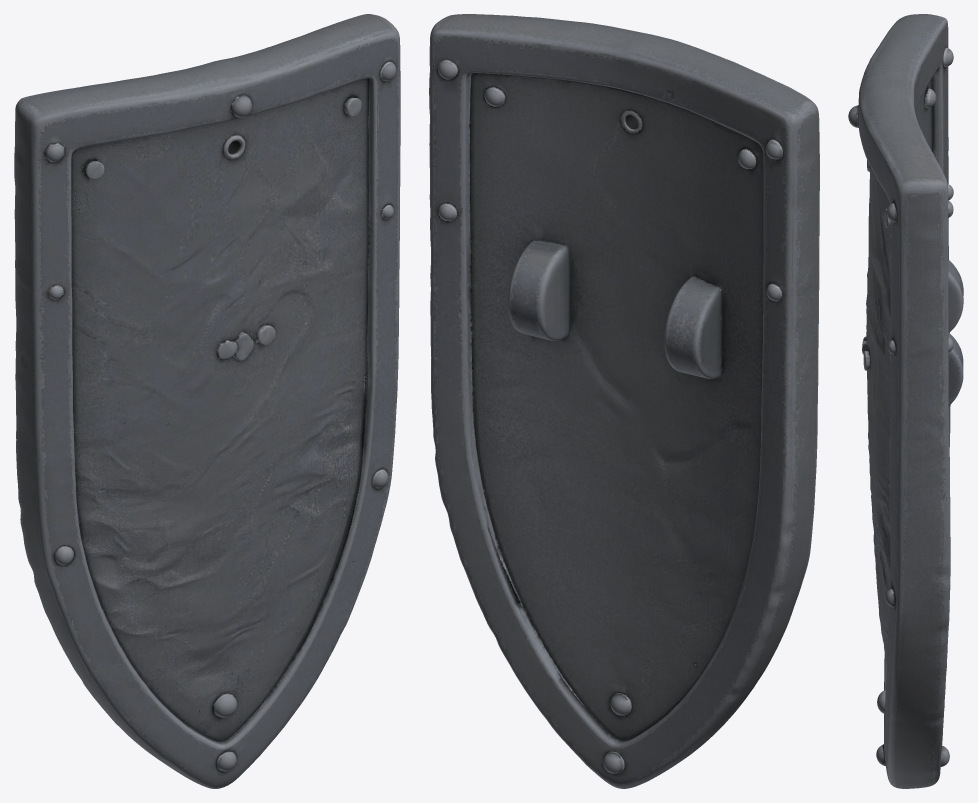
The model's file is shield.fbx.
3 renders of one model, left to right at view 1: azimuth 30°, elevation 25°; view 2: azimuth 150°, elevation 25°; view 3: azimuth 270°, elevation 25°, orthographic. The views are drawn at different scales.
Parts seen in each view (by area): view 1: tripo_node_04d42cee; view 2: tripo_node_04d42cee; view 3: tripo_node_04d42cee.
Boxes of the visible parts, <box> form: tripo_node_04d42cee: <box>14,14,400,788</box>; tripo_node_04d42cee: <box>429,14,819,788</box>; tripo_node_04d42cee: <box>848,14,963,788</box>.
Bounding box in the file's own units: 53.4 × 14.92 × 100.
1 material, 1 textured.
